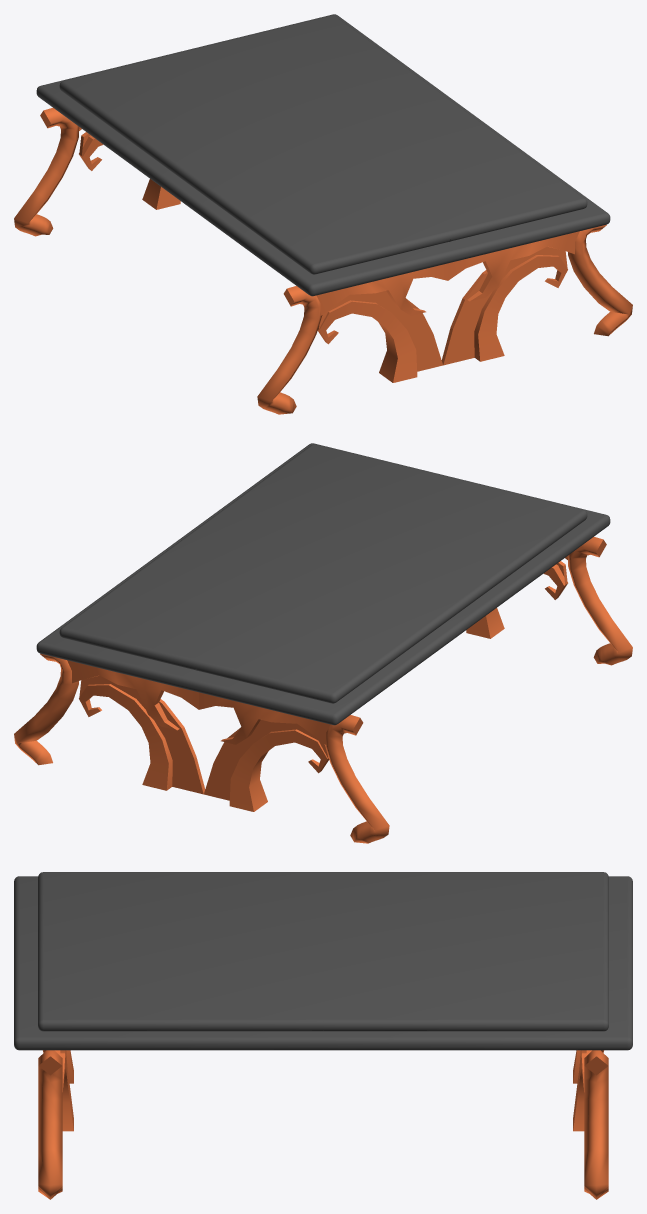
The model's file is podium.glb.
3 renders of one model, top to bottom at view 1: azimuth 30°, elevation 25°; view 2: azimuth 150°, elevation 25°; view 3: azimuth 270°, elevation 25°, orthographic. The views are drawn at different scales.
Parts seen in each view (by area): view 1: Platform, Frame 2, Legs, Frame 1; view 2: Platform, Frame 2, Legs, Frame 1; view 3: Platform, Legs, Frame 2.
Part boxes in pixels (x1=…): Platform: x1=36, y1=14, x2=610, y2=296; Frame 2: x1=79, y1=132, x2=567, y2=382; Legs: x1=14, y1=108, x2=632, y2=414; Frame 1: x1=79, y1=127, x2=579, y2=315; Platform: x1=36, y1=443, x2=610, y2=725; Frame 2: x1=79, y1=561, x2=567, y2=811; Legs: x1=14, y1=537, x2=632, y2=843; Frame 1: x1=67, y1=556, x2=567, y2=744; Platform: x1=14, y1=872, x2=632, y2=1050; Legs: x1=38, y1=1050, x2=608, y2=1199; Frame 2: x1=55, y1=1050, x2=591, y2=1131.
Bounding box in the file's own units: 21.7 × 8.01 × 27.6.
